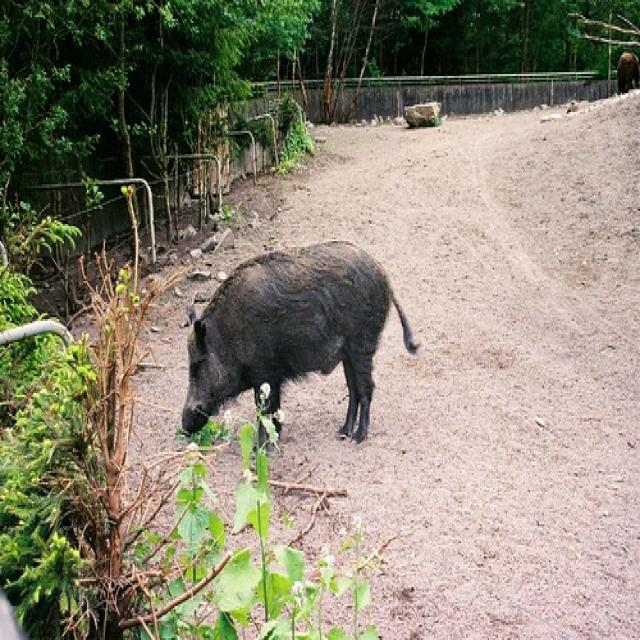boar: (143, 216, 447, 496)
